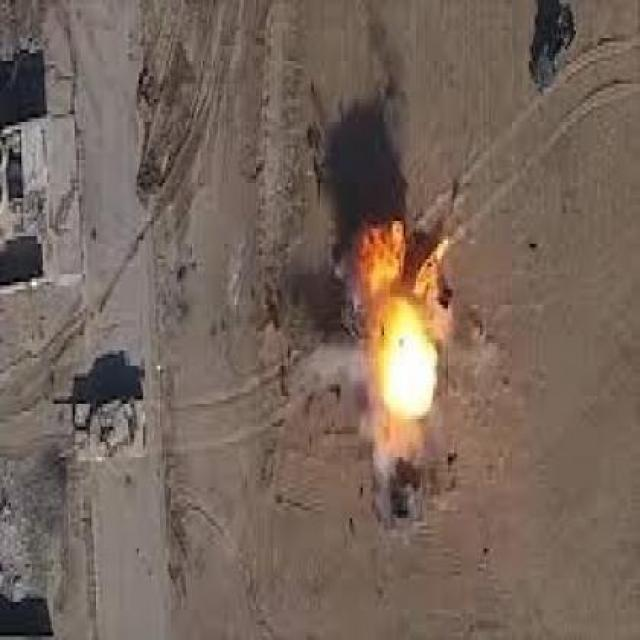tank: (71, 389, 147, 464)
